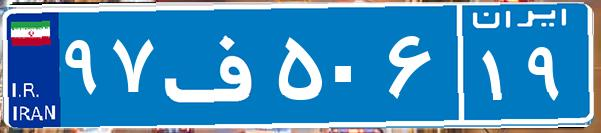0: (330, 28, 385, 110)
1: (475, 38, 525, 113)
5: (273, 28, 330, 110)
6: (385, 28, 445, 110)
7: (110, 28, 158, 105)
9: (57, 26, 110, 107), (525, 38, 570, 115)
ف: (158, 15, 273, 115)
